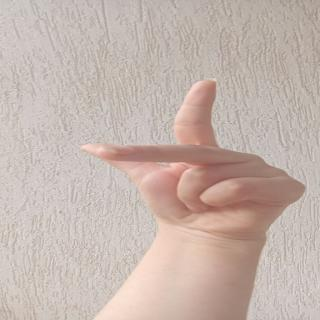DHAA: (57, 78, 320, 228)
